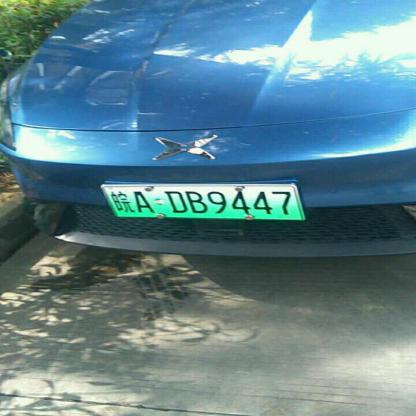lp: (102, 185, 304, 219)
